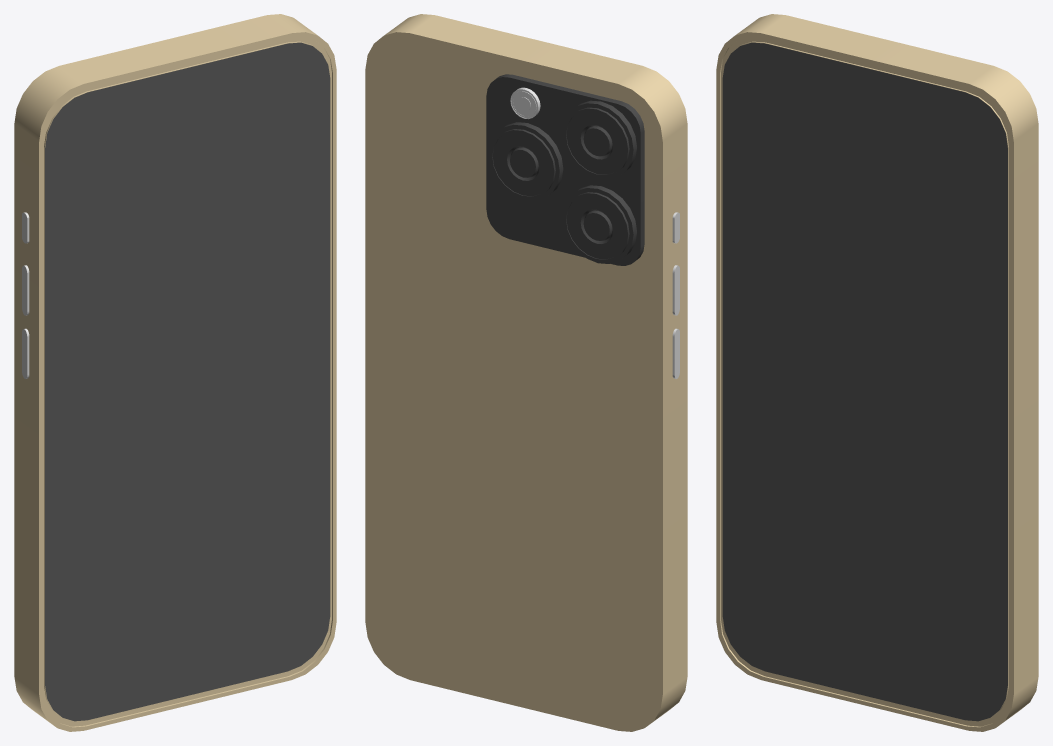
3 views of the same model, side by side, from view 1: azimuth 30°, elevation 25°; view 2: azimuth 150°, elevation 25°; view 3: azimuth 330°, elevation 25° (orthographic).
Parts seen in each view (by area): view 1: pCube9; view 2: pCube9, pCube3, pCylinder6, pCylinder8, pCylinder7, pCylinder5; view 3: pCube9.
Part boxes in pixels (left/top/right/bottom): pCube9: left=14, top=14, right=336, bottom=731; pCube9: left=365, top=14, right=687, bottom=731; pCube3: left=486, top=74, right=644, bottom=265; pCylinder6: left=562, top=185, right=636, bottom=263; pCylinder8: left=562, top=100, right=636, bottom=179; pCylinder7: left=488, top=122, right=563, bottom=200; pCylinder5: left=510, top=87, right=540, bottom=119; pCube9: left=716, top=14, right=1038, bottom=731.
Size of the model in its own units: 7.52 by 15.52 by 1.46.
